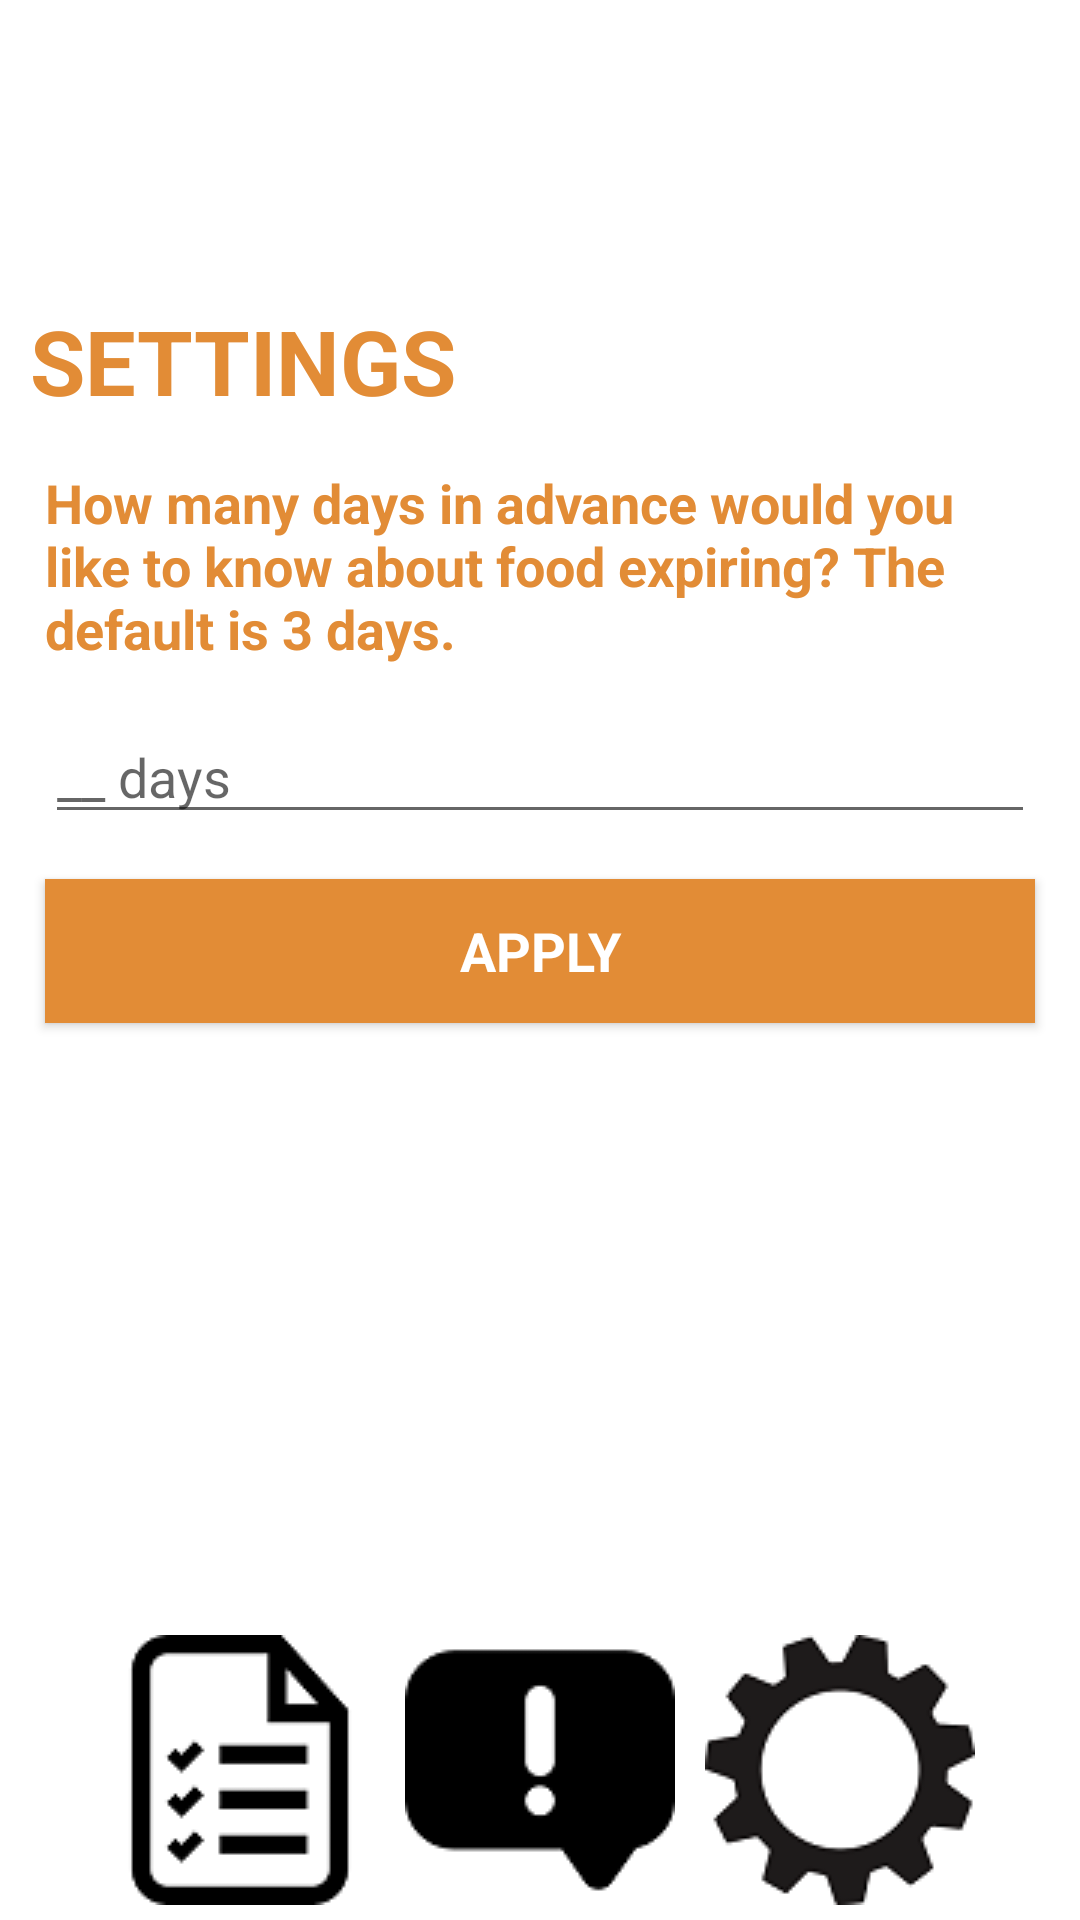

Icon click points for this 1080 x 1920 phone screenshot, format [x,y]:
alert: [540,1770]
settings gear: [840,1770]
